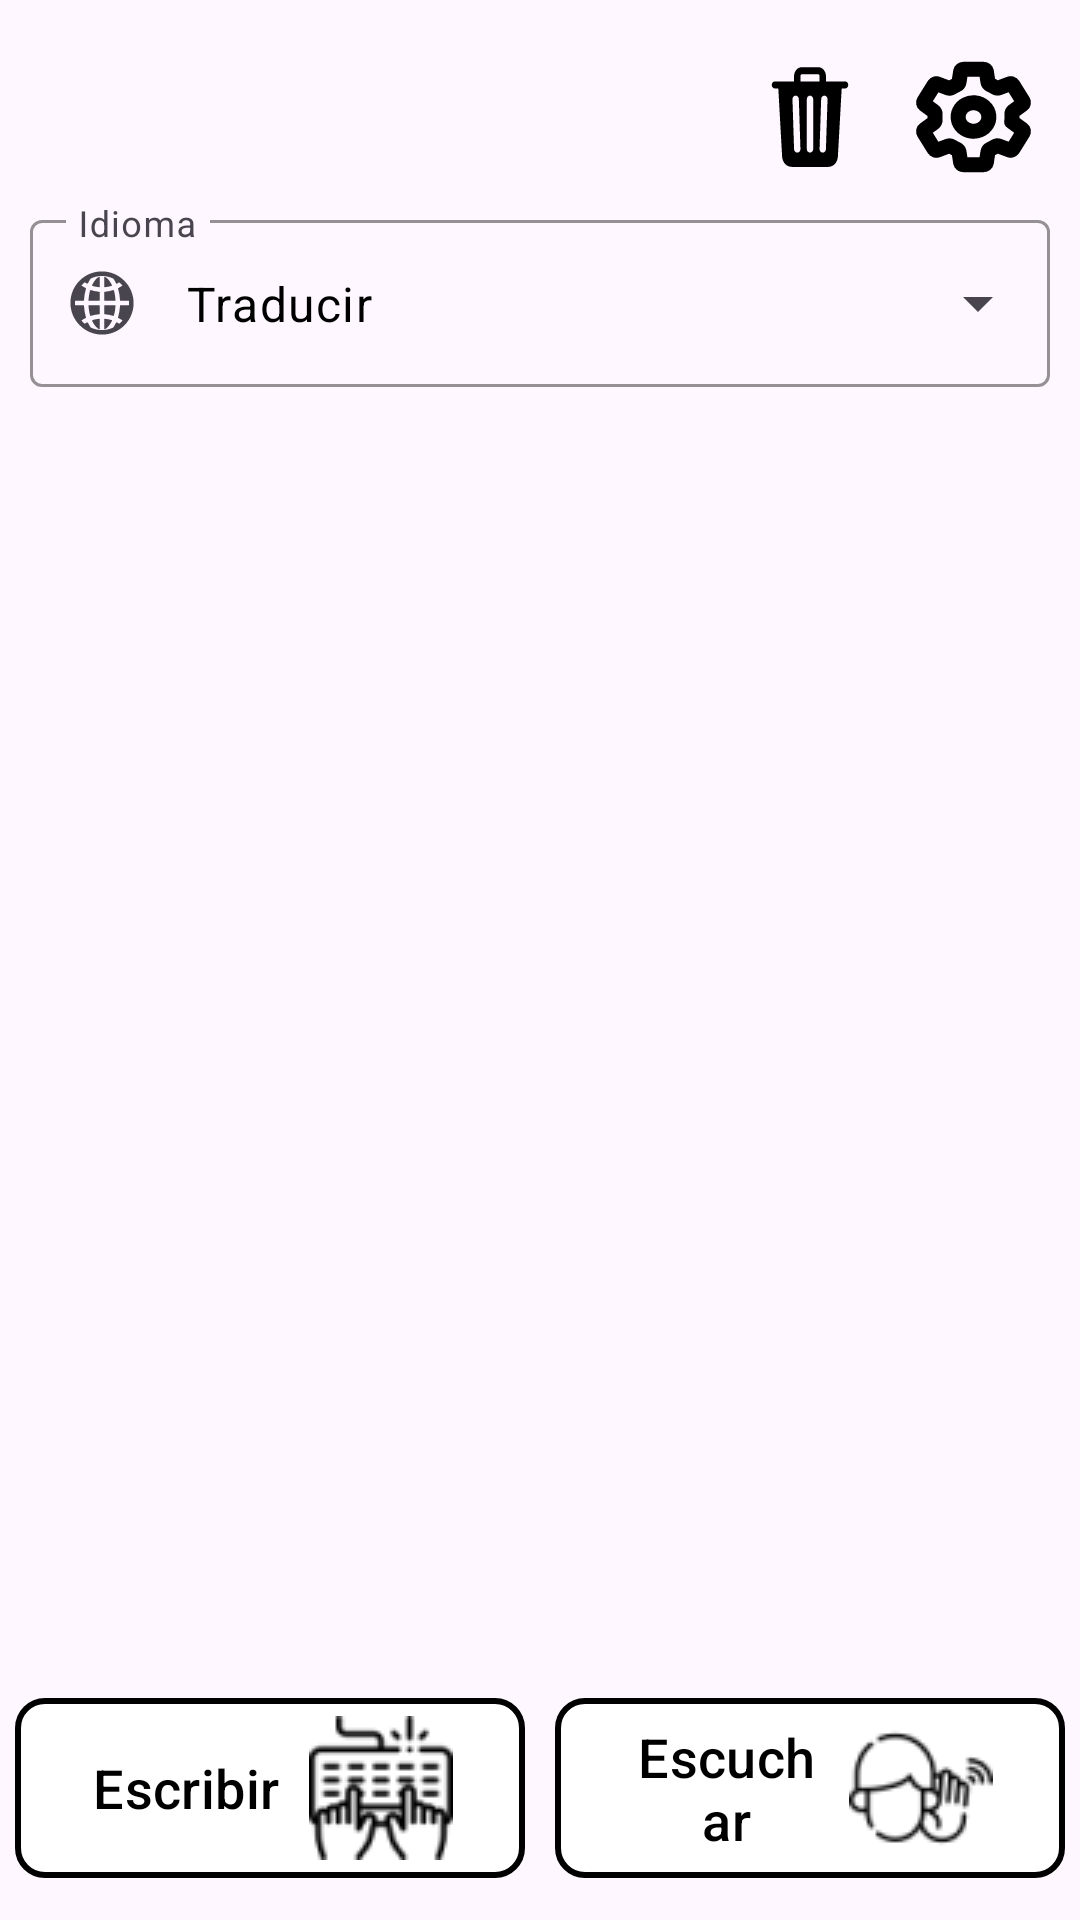

Locate icon controls on the screen. Image size 1080 x 1920, boxes as (x1,y1,x2,y2).
settings: (916,61,1031,173)
trash: (771,67,849,167)
